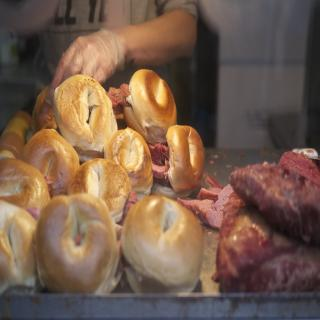Bread: (0, 68, 204, 294)
